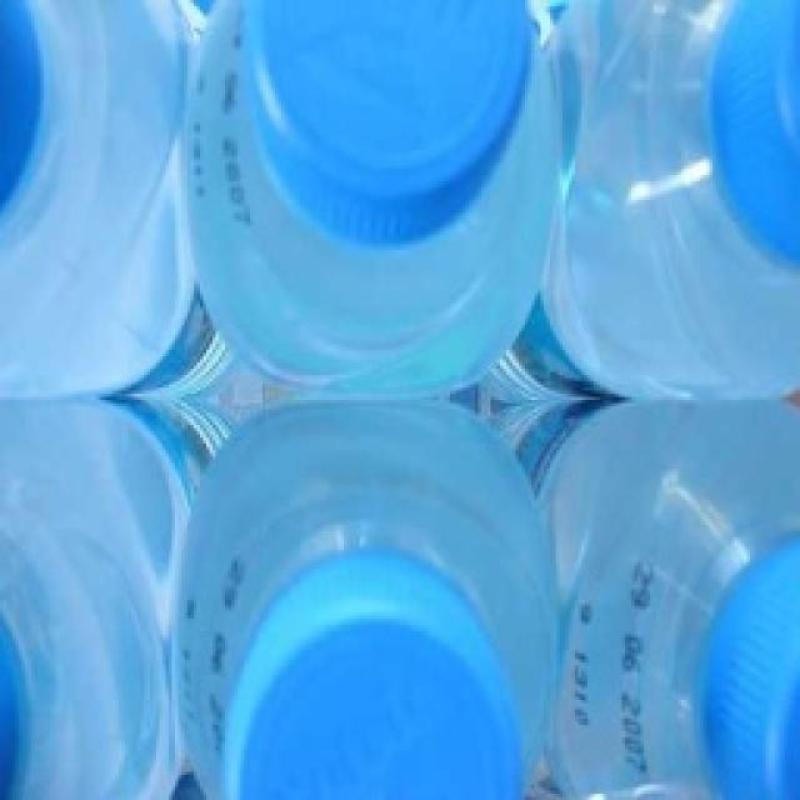botella: (174, 400, 561, 800), (182, 0, 563, 402), (494, 394, 800, 800), (487, 0, 800, 394), (0, 396, 231, 800), (0, 0, 231, 398)
